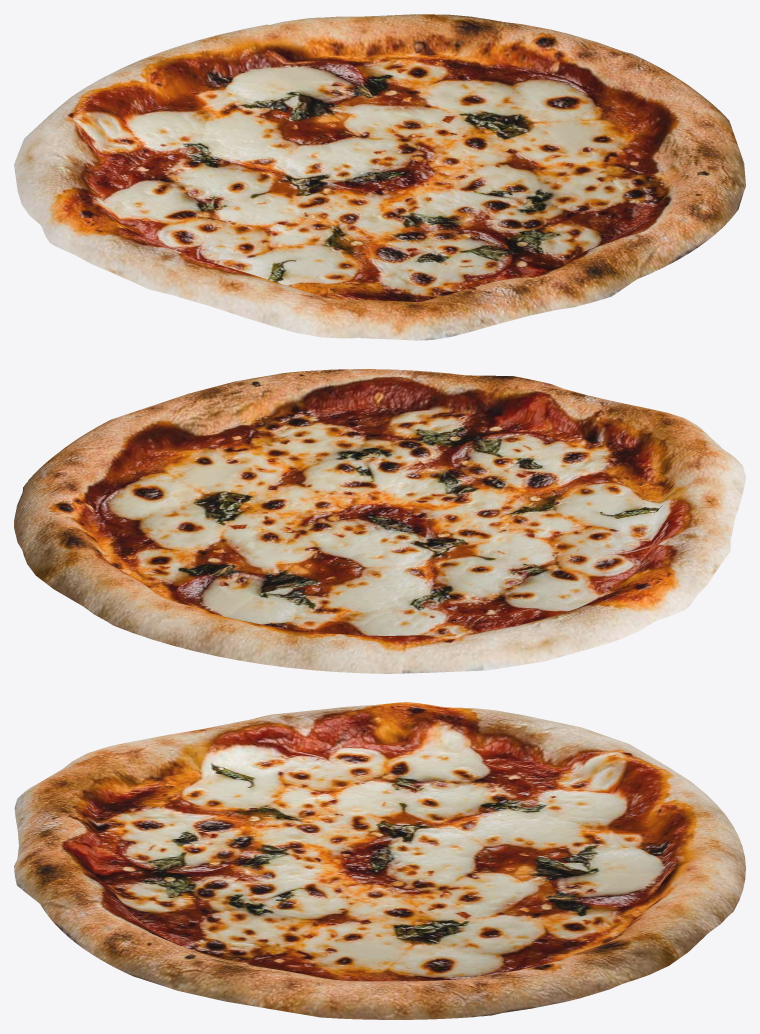
File: margherita_2.glb
3 renders of one model, top to bottom at view 1: azimuth 30°, elevation 25°; view 2: azimuth 150°, elevation 25°; view 3: azimuth 270°, elevation 25°, orthographic.
Parts seen in each view (by area): view 1: Material2.004; view 2: Material2.004; view 3: Material2.004.
Boxes of the visible parts, left/top/right/bottom form: Material2.004: left=14, top=14, right=745, bottom=340; Material2.004: left=14, top=369, right=745, bottom=673; Material2.004: left=14, top=702, right=745, bottom=1019.
Size of the model in its own units: 1.13 by 0.0278 by 1.12.
1 material, 1 textured.
